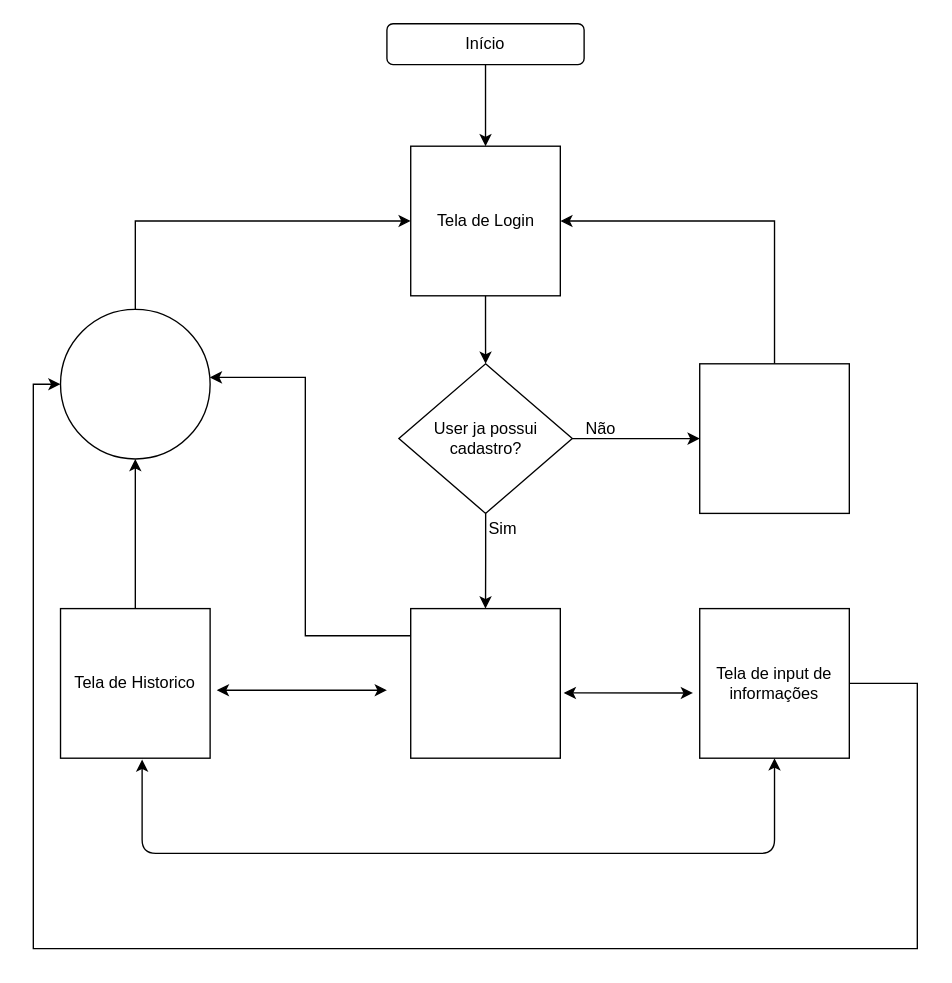
This 952x983 diagram has some shape labels left out. The shapes that lost their labels are listed below. From the top down, each one's centre as x and y in pixels, then its label:
(134,383): Botão de Logout
(773,437): Tela de cadastro
(484,682): Home
